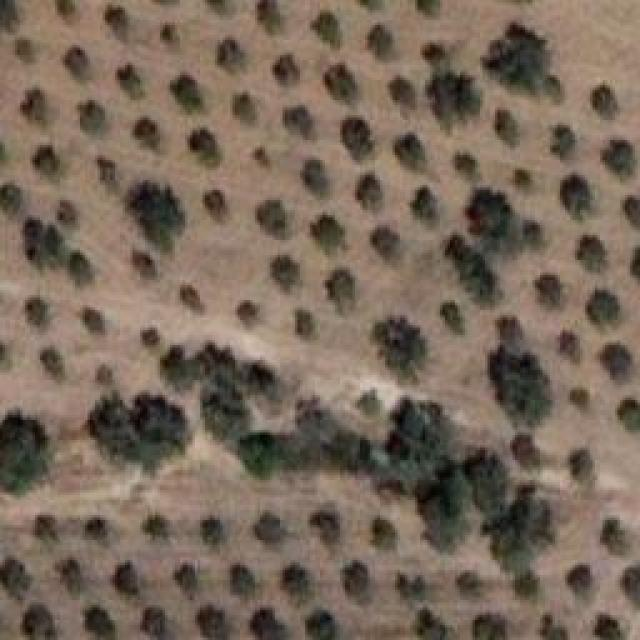Tree: (230, 410, 378, 491), (90, 392, 190, 472), (490, 318, 553, 428), (483, 485, 554, 576), (483, 22, 563, 102), (465, 190, 542, 255), (385, 398, 453, 465), (412, 465, 468, 546), (128, 180, 187, 252), (0, 410, 48, 492), (373, 318, 428, 384), (445, 235, 496, 305), (203, 372, 252, 442), (425, 70, 483, 128), (458, 450, 511, 512), (0, 553, 37, 602), (160, 345, 200, 390), (513, 425, 548, 476), (275, 560, 319, 599), (128, 115, 167, 158), (337, 560, 377, 601), (248, 603, 292, 640), (55, 553, 92, 595), (343, 117, 376, 162), (467, 607, 512, 640), (247, 513, 290, 547), (560, 176, 593, 220), (325, 63, 359, 105), (435, 300, 472, 338), (325, 270, 356, 315), (603, 140, 637, 180), (310, 215, 345, 253), (195, 513, 229, 552), (595, 513, 629, 552), (304, 603, 338, 640), (170, 75, 203, 113), (600, 342, 633, 380), (613, 560, 640, 606), (588, 290, 622, 326), (25, 600, 56, 639), (400, 570, 440, 600), (415, 610, 455, 640), (258, 200, 289, 238), (303, 157, 332, 197), (395, 133, 426, 170), (110, 560, 147, 591), (273, 255, 302, 293), (370, 515, 401, 550), (575, 235, 605, 271), (570, 448, 595, 491), (25, 218, 46, 269), (218, 37, 248, 72), (80, 100, 110, 135), (190, 130, 218, 167), (312, 13, 340, 50), (355, 173, 383, 210), (592, 85, 620, 121), (372, 228, 400, 264), (85, 610, 118, 640), (33, 510, 62, 544), (353, 380, 382, 414), (535, 272, 563, 307), (563, 565, 594, 596), (0, 183, 25, 221), (413, 188, 439, 224), (33, 145, 62, 177), (245, 143, 277, 172), (105, 5, 130, 41), (118, 63, 143, 99), (368, 25, 393, 61), (68, 250, 93, 286), (550, 125, 575, 161), (202, 607, 229, 640), (65, 47, 90, 82), (313, 505, 336, 543), (272, 55, 300, 86), (142, 508, 170, 539), (20, 90, 46, 123), (495, 110, 518, 147), (83, 508, 112, 537), (540, 612, 570, 640), (592, 613, 623, 640), (388, 78, 414, 110), (233, 93, 258, 125), (258, 0, 282, 33), (203, 190, 227, 223), (422, 43, 450, 71), (455, 568, 483, 596), (285, 110, 311, 140), (140, 608, 165, 639), (40, 348, 63, 381), (617, 400, 640, 433), (233, 565, 257, 596), (175, 563, 199, 594), (455, 153, 481, 181), (28, 298, 51, 329), (560, 330, 580, 363), (100, 157, 118, 192), (238, 300, 261, 326), (180, 285, 201, 313), (622, 198, 640, 230), (83, 308, 105, 334), (295, 310, 314, 340), (15, 38, 33, 64), (57, 200, 75, 226), (0, 0, 15, 29), (140, 328, 160, 348), (418, 0, 441, 16), (55, 0, 75, 17), (163, 23, 178, 45), (630, 248, 640, 281), (515, 170, 531, 190)
